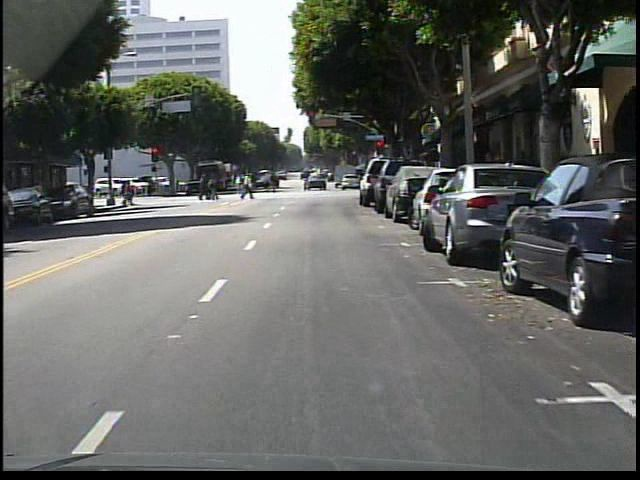person: (235, 170, 257, 202)
